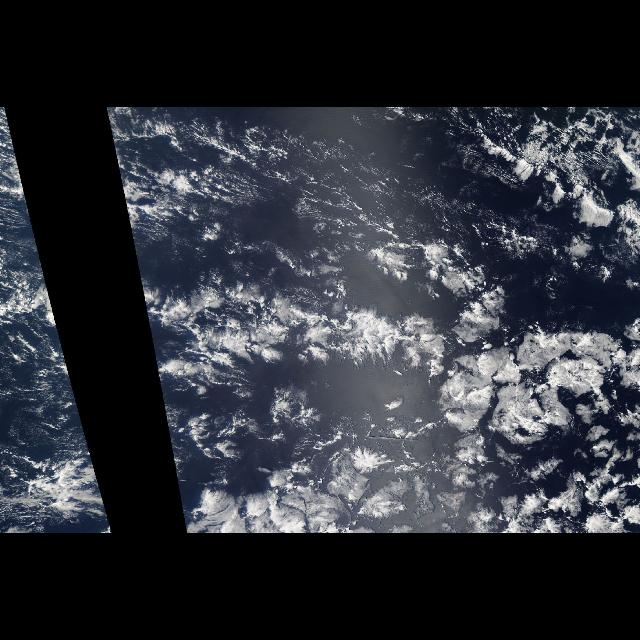Fish: (142, 268, 640, 442), (5, 284, 72, 388)
Flower: (360, 251, 640, 533)
